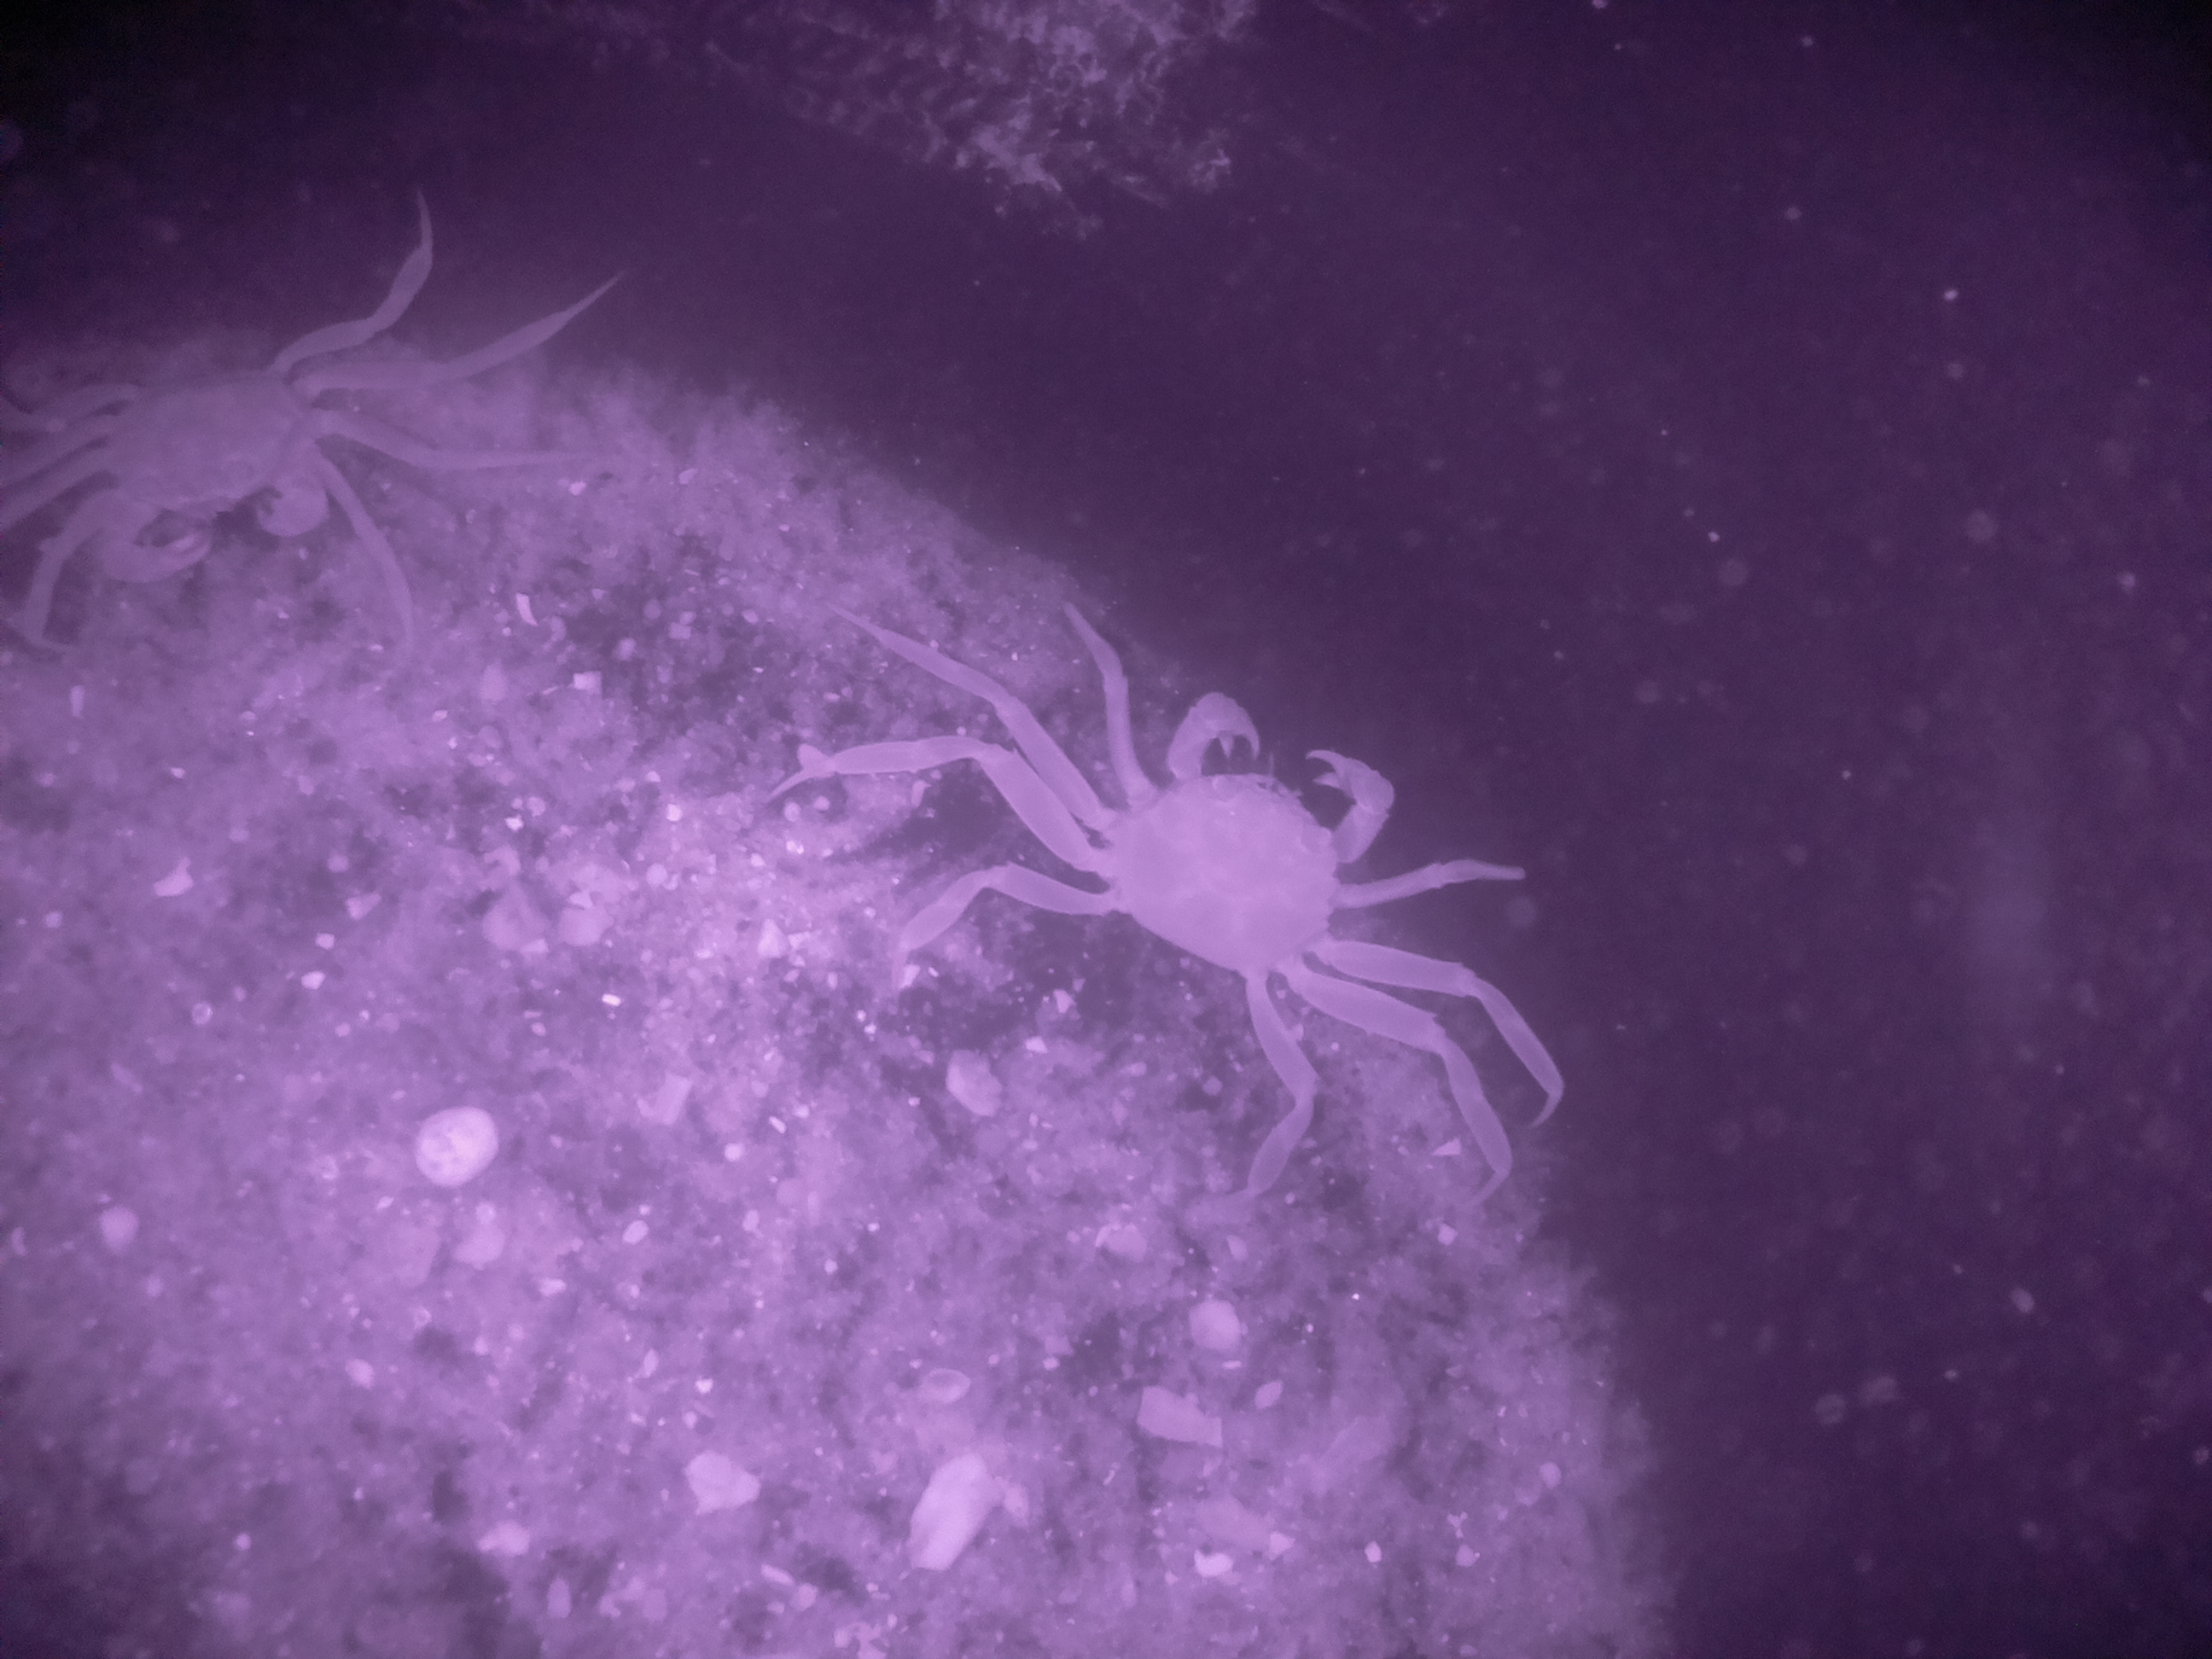Crab: (970, 586, 1494, 1136), (0, 298, 462, 589)
